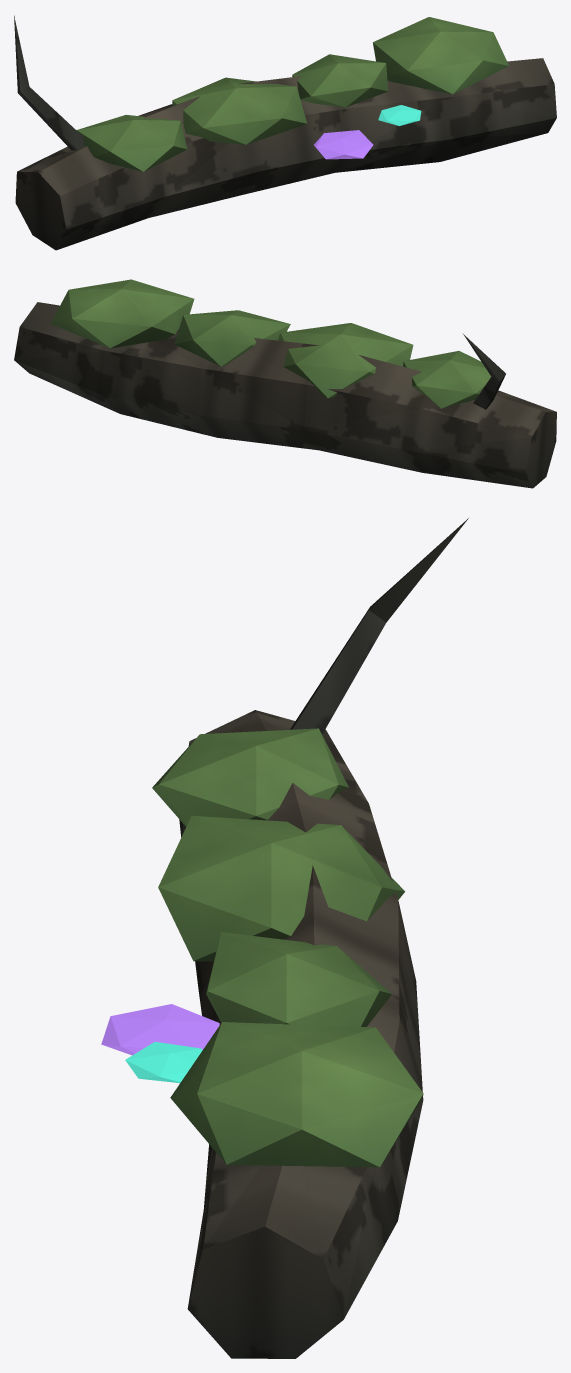
File: fallen_log.glb
The picture shows the model from 3 angles, top to bottom: view 1: azimuth 30°, elevation 25°; view 2: azimuth 150°, elevation 25°; view 3: azimuth 270°, elevation 25°; orthographic projection. The views are drawn at different scales.
Parts seen in each view (by area): view 1: fallen_log; view 2: fallen_log; view 3: fallen_log.
Boxes of the visible parts, bbox=[...] form: fallen_log: bbox=[14, 15, 556, 250]; fallen_log: bbox=[14, 279, 556, 488]; fallen_log: bbox=[101, 518, 468, 1358].
Size of the model in its own units: 3.89 by 1.43 by 1.21.
Materials: 3 (3 with a texture image).
